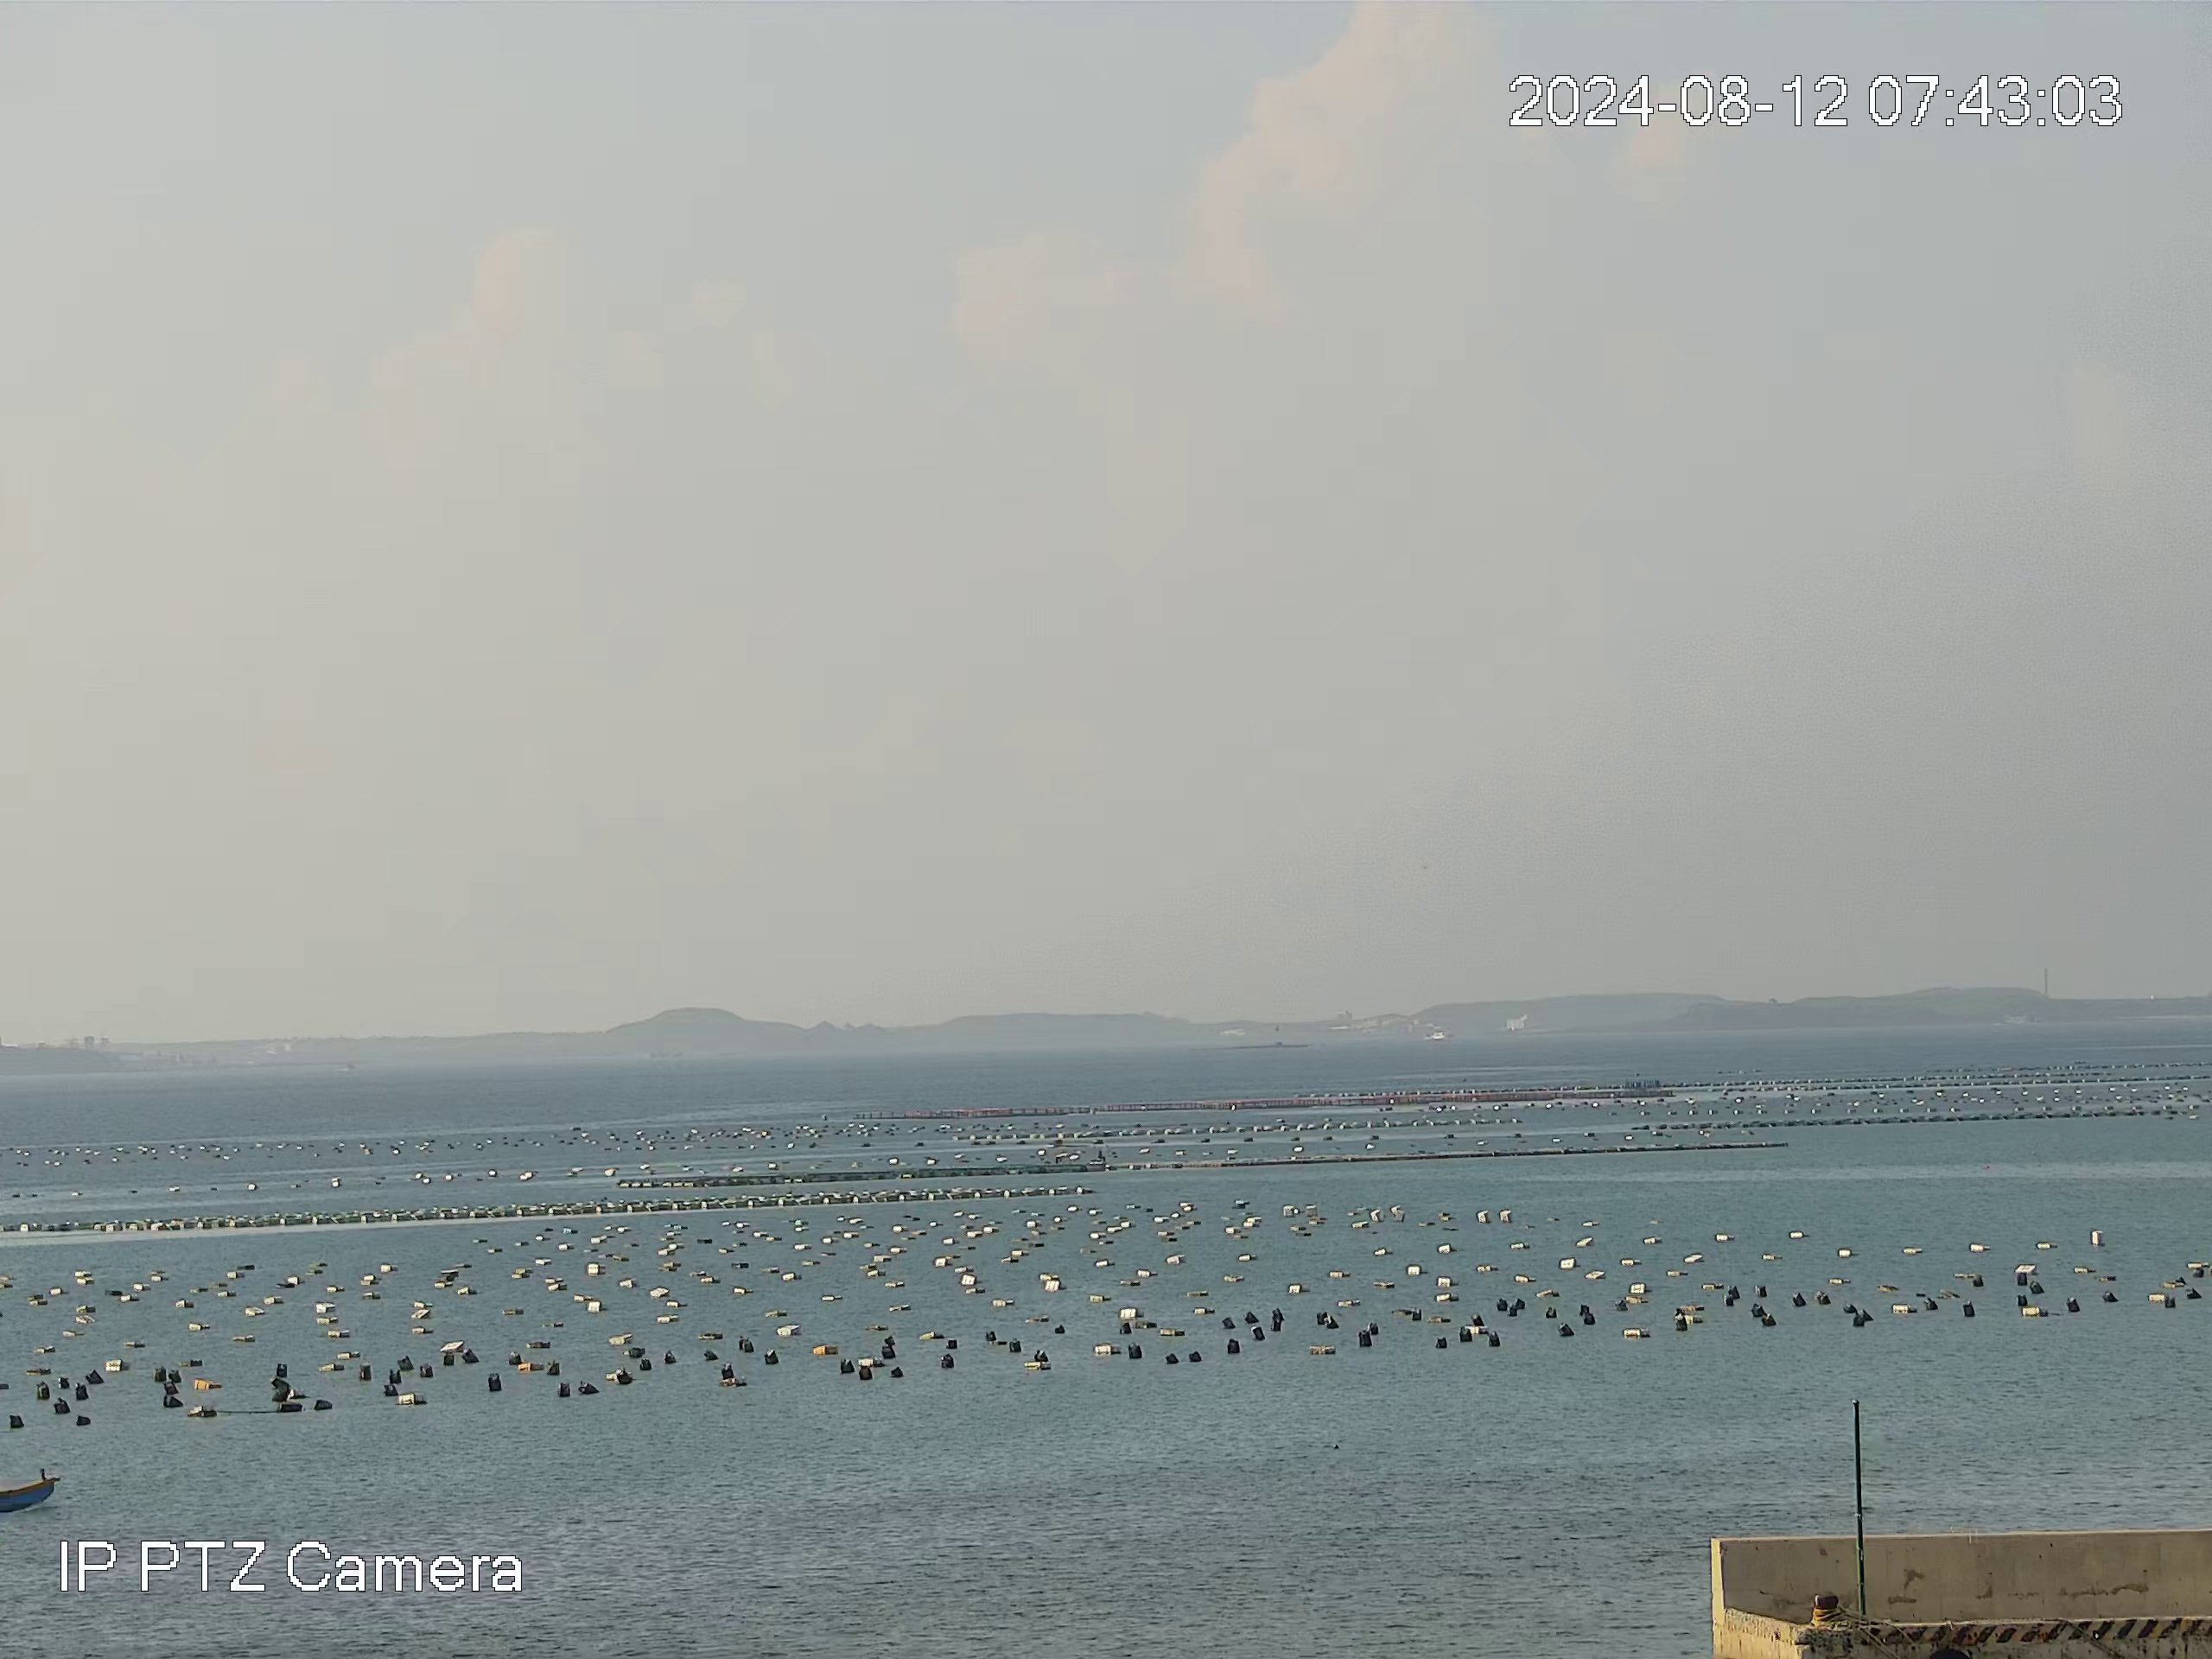boat: (1, 1468, 59, 1525)
